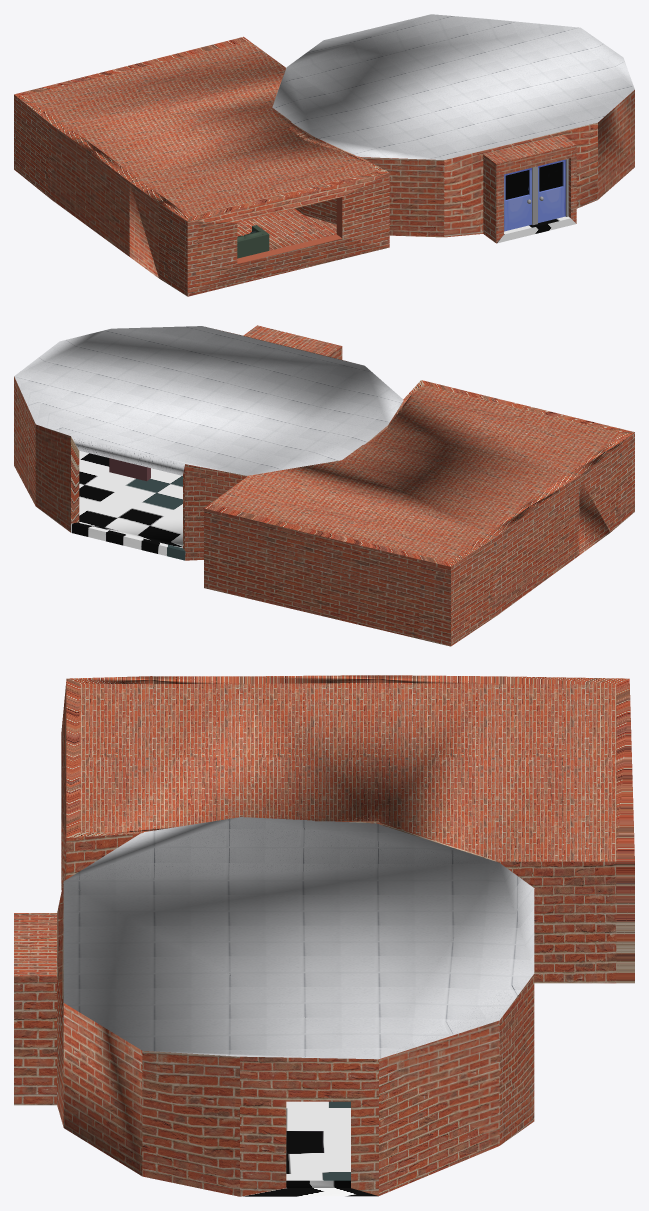
The model's file is Newatriumoffice.glb.
The picture shows the model from 3 angles, top to bottom: view 1: azimuth 30°, elevation 25°; view 2: azimuth 150°, elevation 25°; view 3: azimuth 270°, elevation 25°; orthographic projection. The views are drawn at different scales.
Parts seen in each view (by area): view 1: Cube.005-col, Cube.004-col, Cube.008, Cube.015-col; view 2: Cube.005-col, Cube.004-col, Cube.006-col; view 3: Cube.004-col, Cube.005-col.
Boxes of the visible parts, x1=… form: Cube.005-col: x1=14, y1=36, x2=389, y2=296; Cube.004-col: x1=272, y1=14, x2=634, y2=243; Cube.008: x1=504, y1=158, x2=568, y2=231; Cube.015-col: x1=237, y1=225, x2=269, y2=258; Cube.005-col: x1=204, y1=380, x2=634, y2=646; Cube.004-col: x1=14, y1=325, x2=403, y2=560; Cube.006-col: x1=109, y1=458, x2=150, y2=481; Cube.004-col: x1=14, y1=817, x2=534, y2=1196; Cube.005-col: x1=61, y1=675, x2=634, y2=983.
Bounding box in the file's own units: 28.6 × 5.04 × 19.18.
21 materials, 7 textured.
